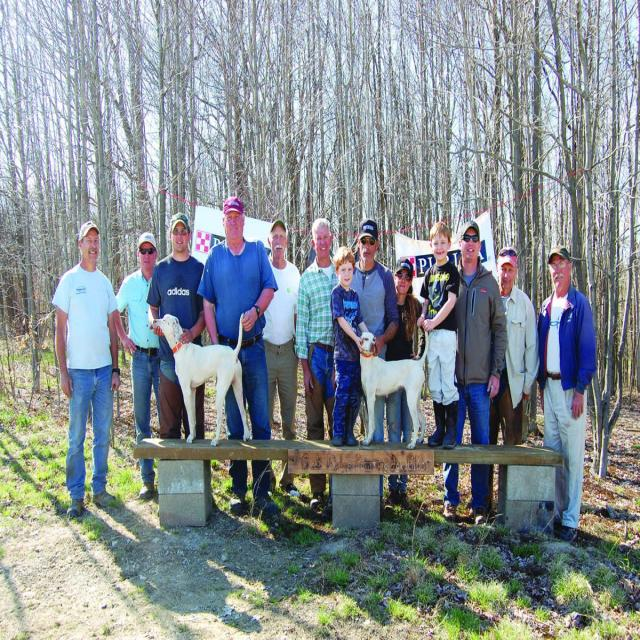body: (194, 194, 280, 519), (50, 212, 123, 520), (438, 216, 509, 527), (538, 247, 598, 545), (145, 212, 208, 441), (488, 245, 540, 510), (295, 217, 340, 508), (113, 230, 161, 500), (345, 217, 399, 443), (260, 218, 302, 501), (383, 257, 426, 513), (415, 219, 460, 451), (328, 246, 377, 449)
